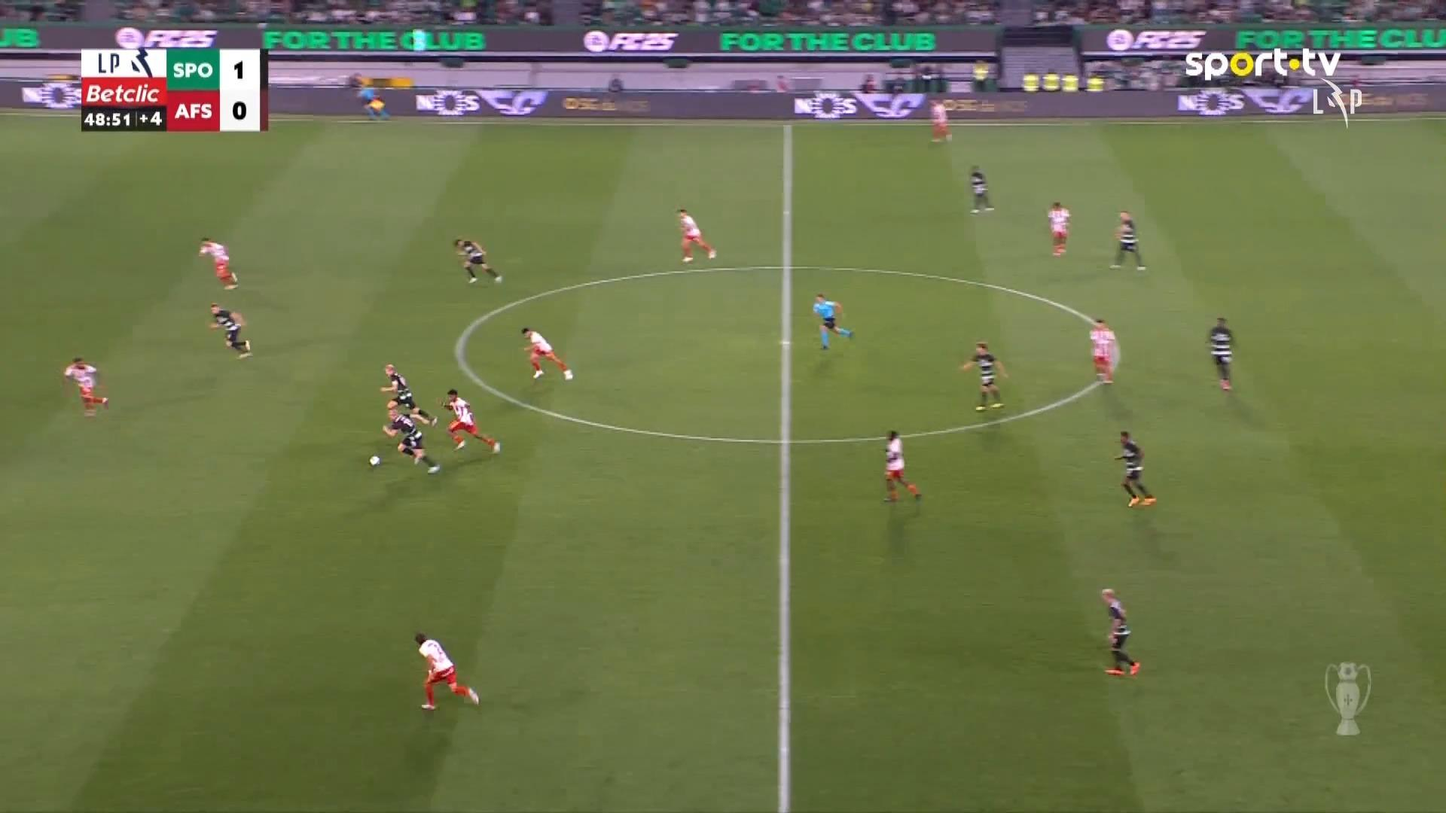ball: (369, 455, 380, 466)
player: (413, 632, 480, 710), (381, 402, 441, 474), (441, 388, 501, 455), (380, 363, 438, 427), (1100, 587, 1140, 676), (960, 340, 1008, 411), (1113, 429, 1156, 507), (520, 326, 573, 381), (882, 429, 921, 502), (63, 355, 108, 417), (207, 302, 252, 359), (453, 237, 502, 285), (675, 206, 716, 263), (197, 236, 239, 290), (1109, 209, 1146, 270), (1088, 318, 1119, 383), (1208, 315, 1234, 391), (1047, 200, 1070, 256), (968, 166, 994, 212), (928, 98, 952, 142)
referee: (812, 292, 854, 350), (356, 85, 390, 120)
